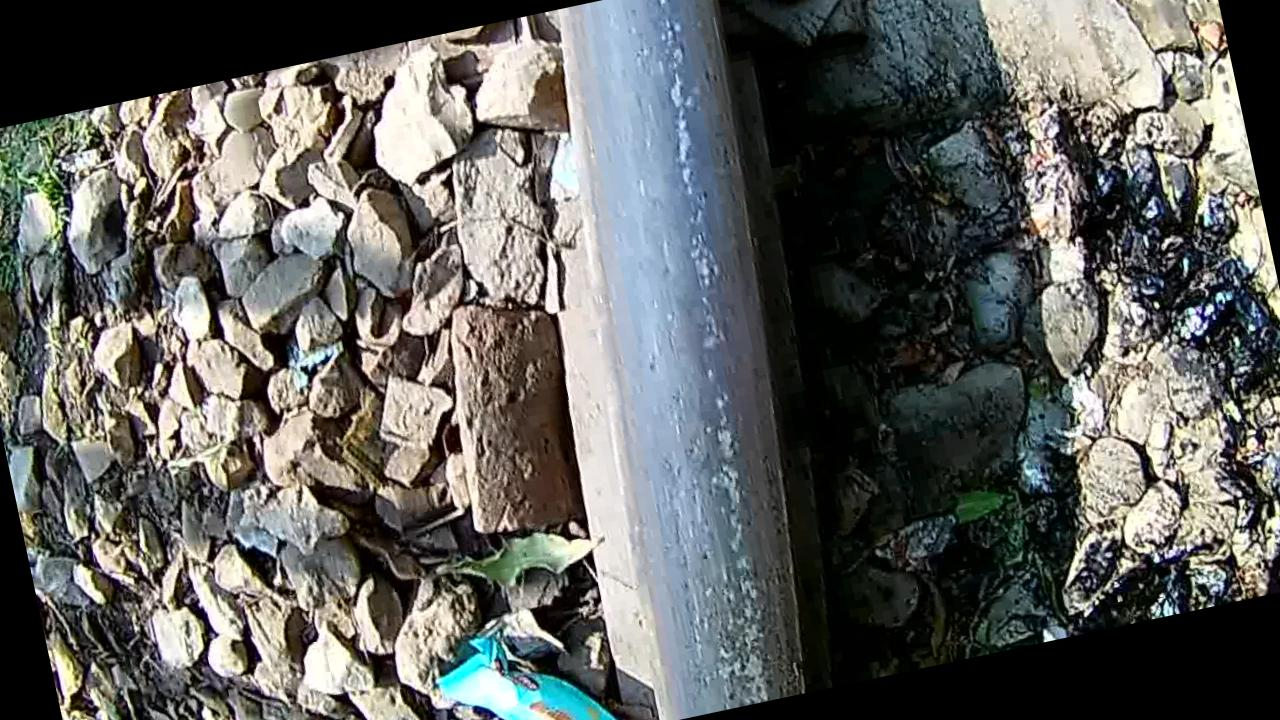clip_missing: (516, 0, 866, 719)
